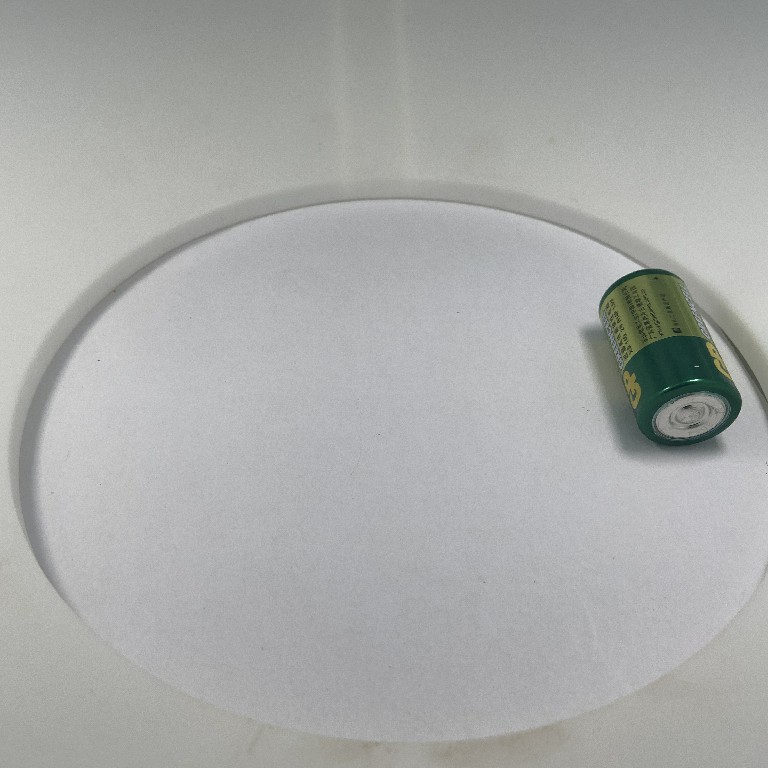charge: (595, 261, 746, 448)
